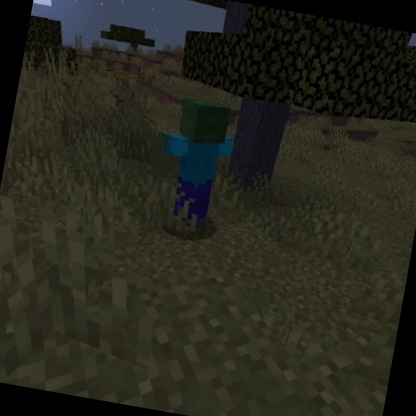zombie: (137, 88, 246, 243)
